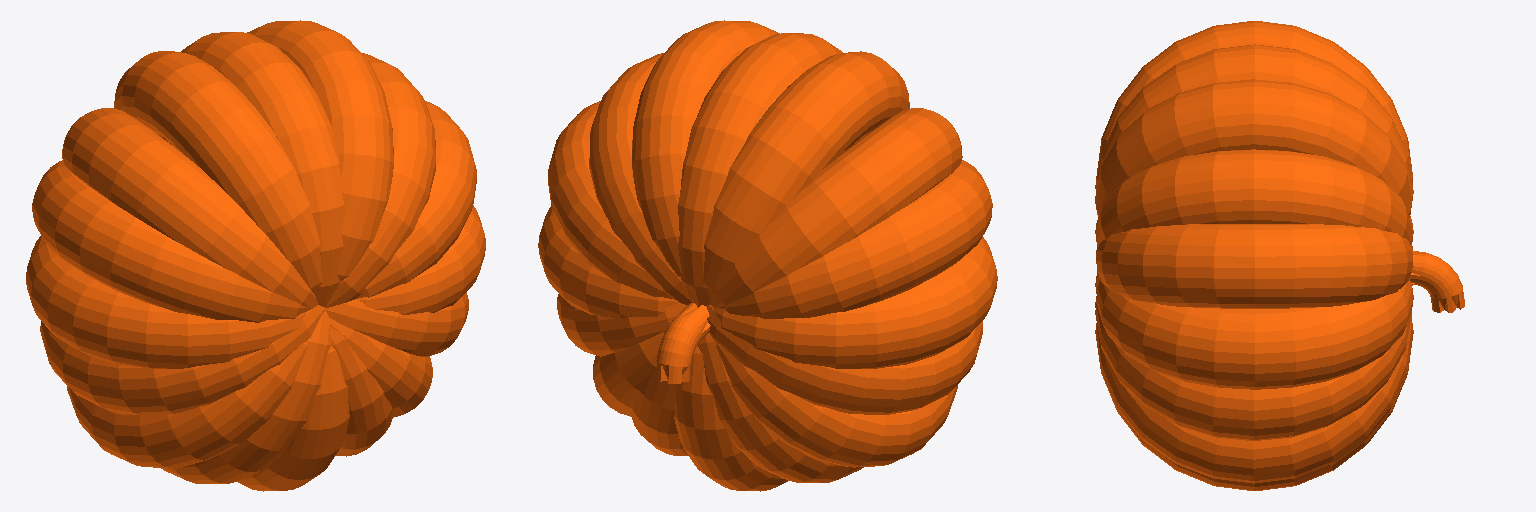
robot.urdf — textured:
<?xml version="1.0" ?>
<robot name="textured">
  <material name="pumpkin">
    <color rgba="1 0.46 0.098 1"/>
  </material>

  <link name="base_link">
    <contact>
      <lateral_friction value="1.0"/>
      <rolling_friction value="0.001"/>
      <spinning_friction value="0.001"/>
      <inertia_scaling value="1.0"/>
    </contact>
    <inertial>
      <origin rpy="0 0 0" xyz="0 0 0"/>
       <mass value="0.1"/>
       <inertia ixx="1" ixy="0" ixz="0" iyy="1" iyz="0" izz="1"/>
    </inertial>

    <visual>
      <origin rpy="0 0 0" xyz="0 0 0"/>
      <geometry>
        <mesh filename="3d-model.obj" scale="0.1 0.1 0.1"/>
      </geometry>
      <material name="pumpkin"/>
    </visual>

    <collision>
      <origin rpy="0 0 0" xyz="0 0 0"/>
      <geometry>
        <mesh filename="3d-model.obj" scale="0.1 0.1 0.1"/>
      </geometry>
    </collision>

  </link>
</robot>

--- Render facts (derived) ---
3 views of the same robot in one strip: view 1: azimuth 30°, elevation 25°; view 2: azimuth 150°, elevation 25°; view 3: azimuth 270°, elevation 25° (orthographic).
Robot: textured — 1 links, 0 joints (none); root link base_link; default pose: all joints at 0.
Links seen in each view (by area): view 1: base_link; view 2: base_link; view 3: base_link.
Boxes of the visible links, x1,y1,x2,y2 form: base_link: (26,20,485,491); base_link: (538,20,997,491); base_link: (1095,21,1464,490).
Size in the robot's own frame: 0.0551 by 0.0432 by 0.0551 metres.
Meshes: 1 distinct files referenced, 1 mesh visuals loaded (1 OBJ).